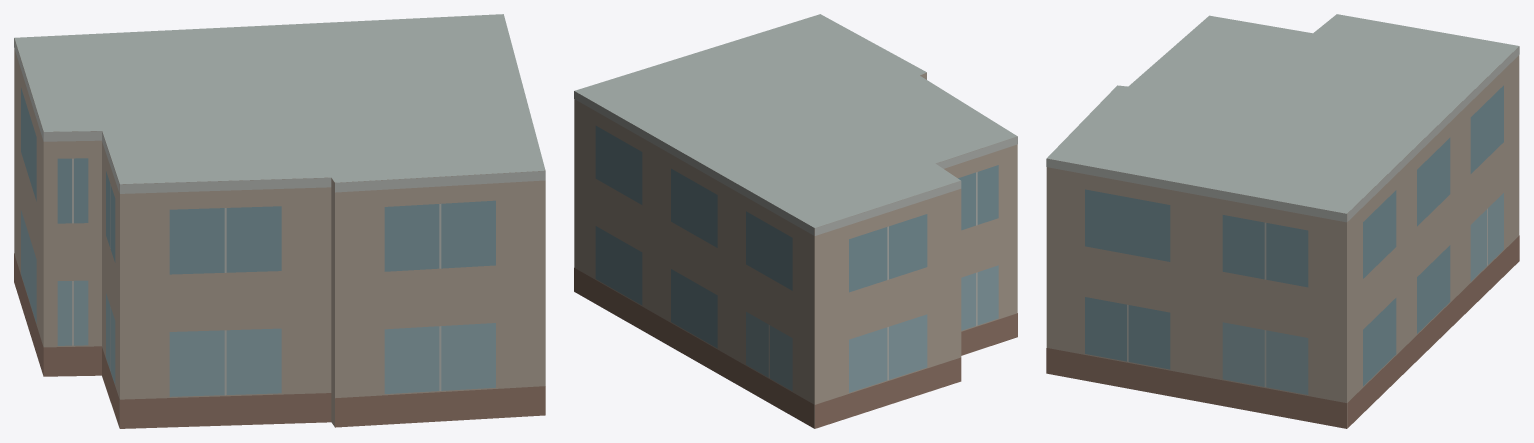
File: survey-upis-32654673.glb
3 renders of one model, left to right at view 1: azimuth 30°, elevation 25°; view 2: azimuth 150°, elevation 25°; view 3: azimuth 270°, elevation 25°, orthographic. The views are drawn at different scales.
Parts seen in each view (by area): view 1: survey-upis-32654673.tmp; view 2: survey-upis-32654673.tmp; view 3: survey-upis-32654673.tmp.
Boxes of the visible parts, <box> form: survey-upis-32654673.tmp: <box>14,14,545,428</box>; survey-upis-32654673.tmp: <box>574,14,1017,428</box>; survey-upis-32654673.tmp: <box>1046,14,1519,428</box>.
Size of the model in its own units: 12.17 by 6.1 by 12.17.
